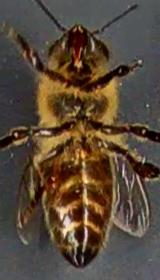varroa_mite: (37, 163, 64, 194)
